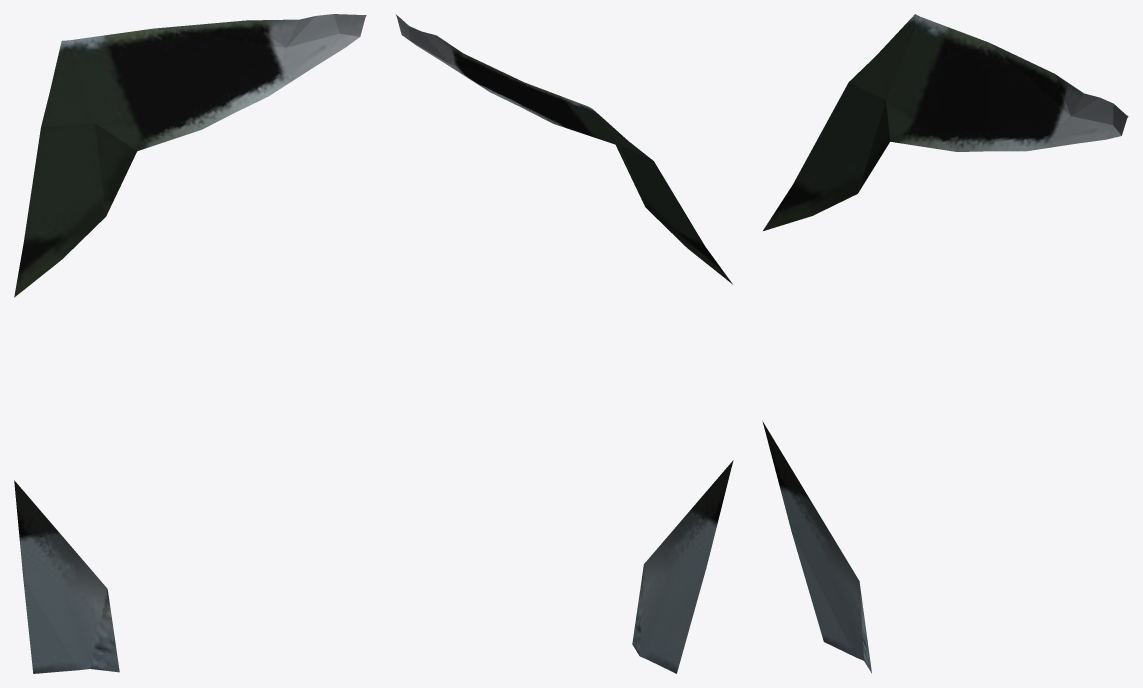
The picture shows the model from 3 angles, left to right: view 1: azimuth 30°, elevation 25°; view 2: azimuth 150°, elevation 25°; view 3: azimuth 330°, elevation 25°; orthographic projection. The views are drawn at different scales.
Size of the model in its own units: 2.07 by 3.35 by 0.5065.
1 material, 1 textured.
